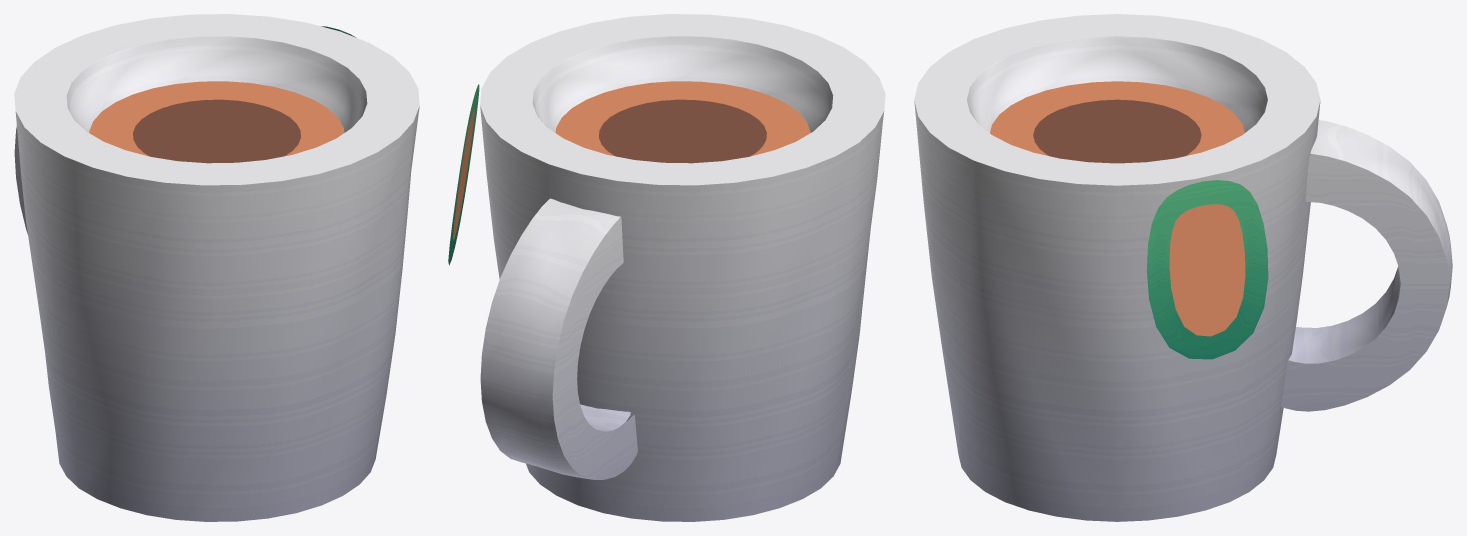
The model's file is cup-tea.glb.
3 views of the same model, side by side, from view 1: azimuth 30°, elevation 25°; view 2: azimuth 150°, elevation 25°; view 3: azimuth 270°, elevation 25° (orthographic).
Parts seen in each view (by area): view 1: cup-tea; view 2: cup-tea; view 3: cup-tea.
Boxes of the visible parts, left/top/right/bottom form: cup-tea: left=14, top=14, right=419, bottom=521; cup-tea: left=448, top=14, right=885, bottom=521; cup-tea: left=914, top=14, right=1452, bottom=521.
Size of the model in its own units: 0.2207 by 0.2 by 0.2751.
1 material, 1 textured.
